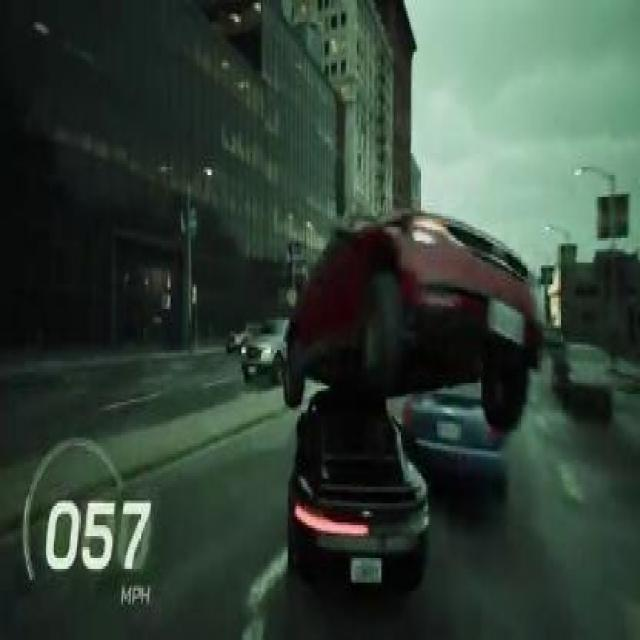accident: (269, 197, 543, 593)
